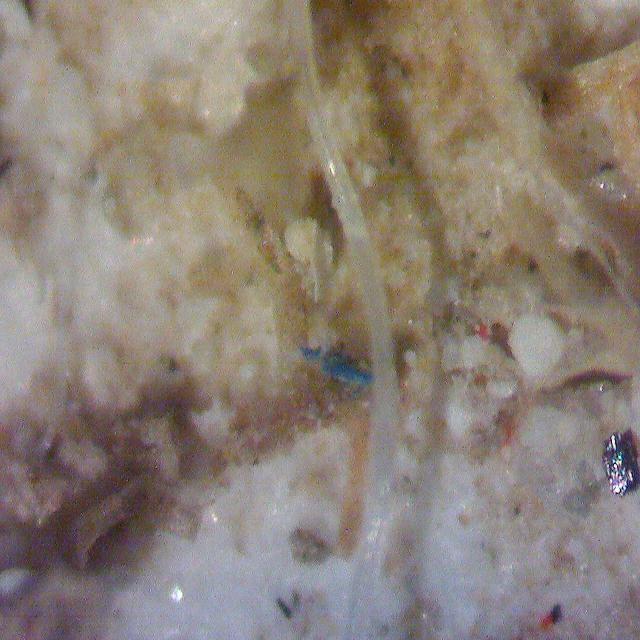microplastic: (298, 349, 372, 384)
